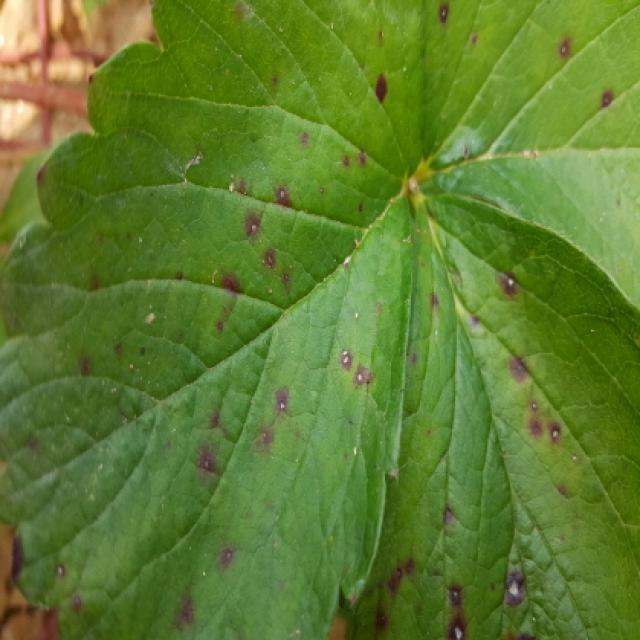Leaf Spot: (2, 0, 425, 638), (340, 195, 640, 638), (409, 0, 640, 319)
